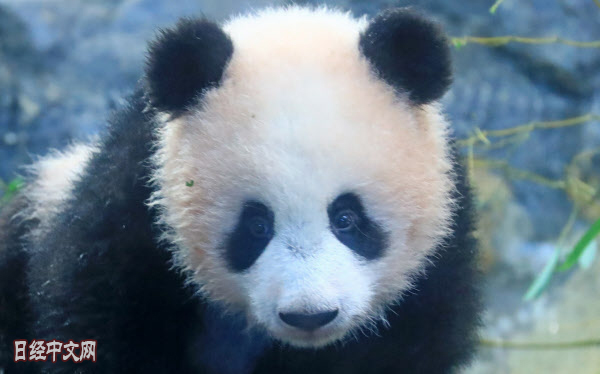panda: (2, 1, 486, 374)
